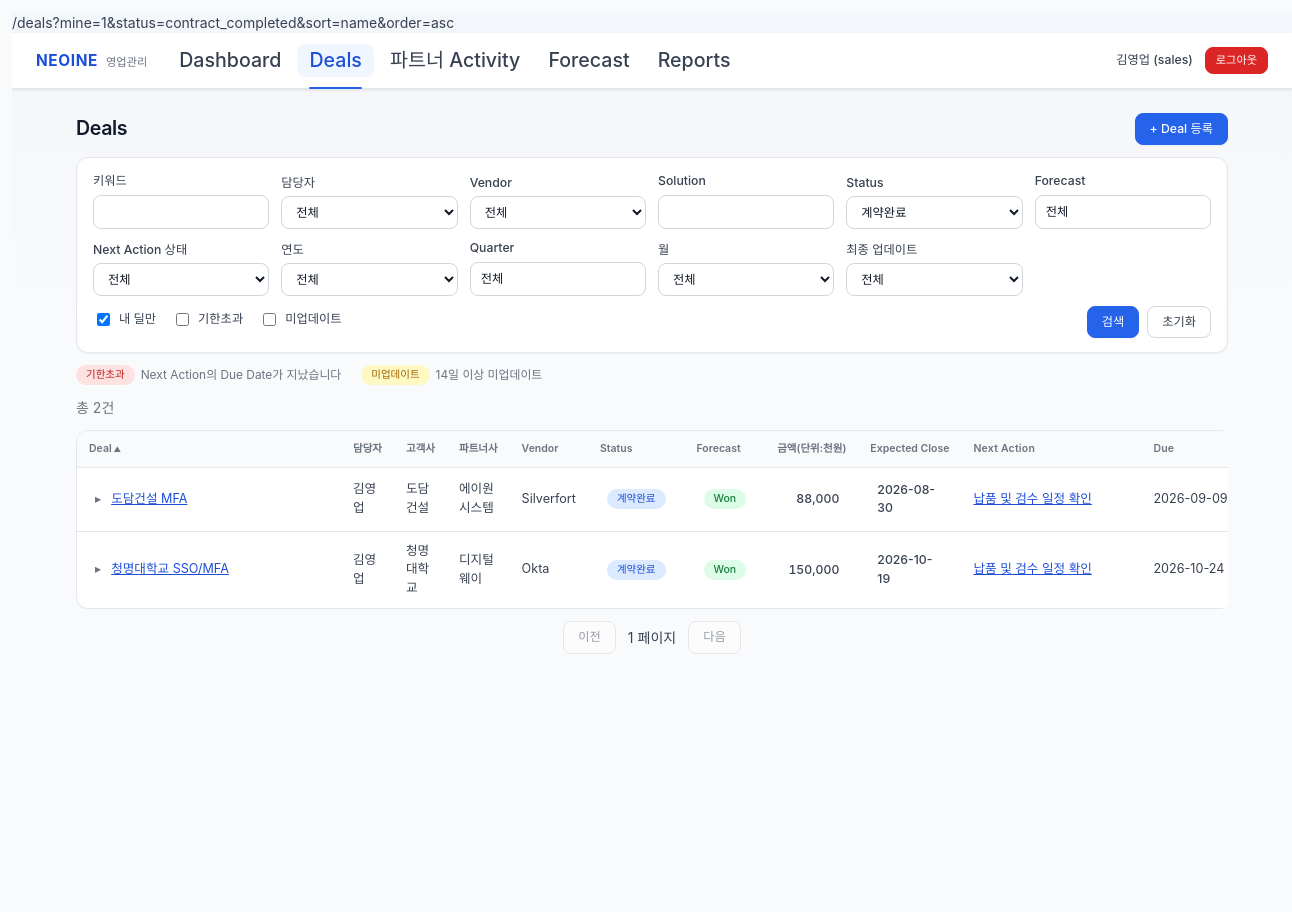
Test: 상세에서 목록으로 (AC-01, AC-02, AC-03, AC-11) › back link on detail returns to the filtered sorted page
Click the link "청명대학교 SSO/MFA" at (170, 570), box [111,560,229,579]
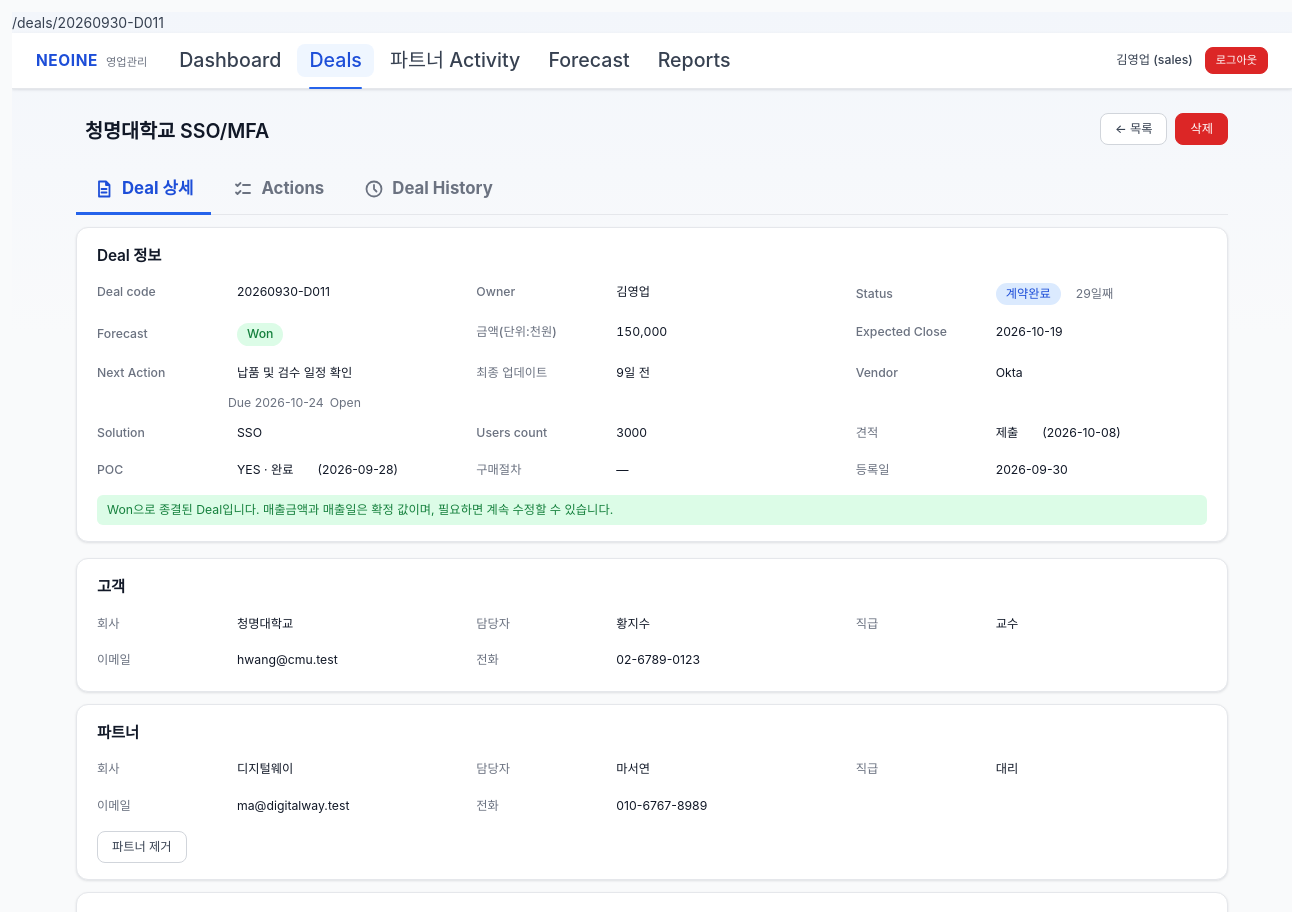
expect the heading "청명대학교 SSO/MFA" is shown: met, box [76,113,278,150]
Click the link "← 목록" at (1134, 129), box [1100,113,1168,145]
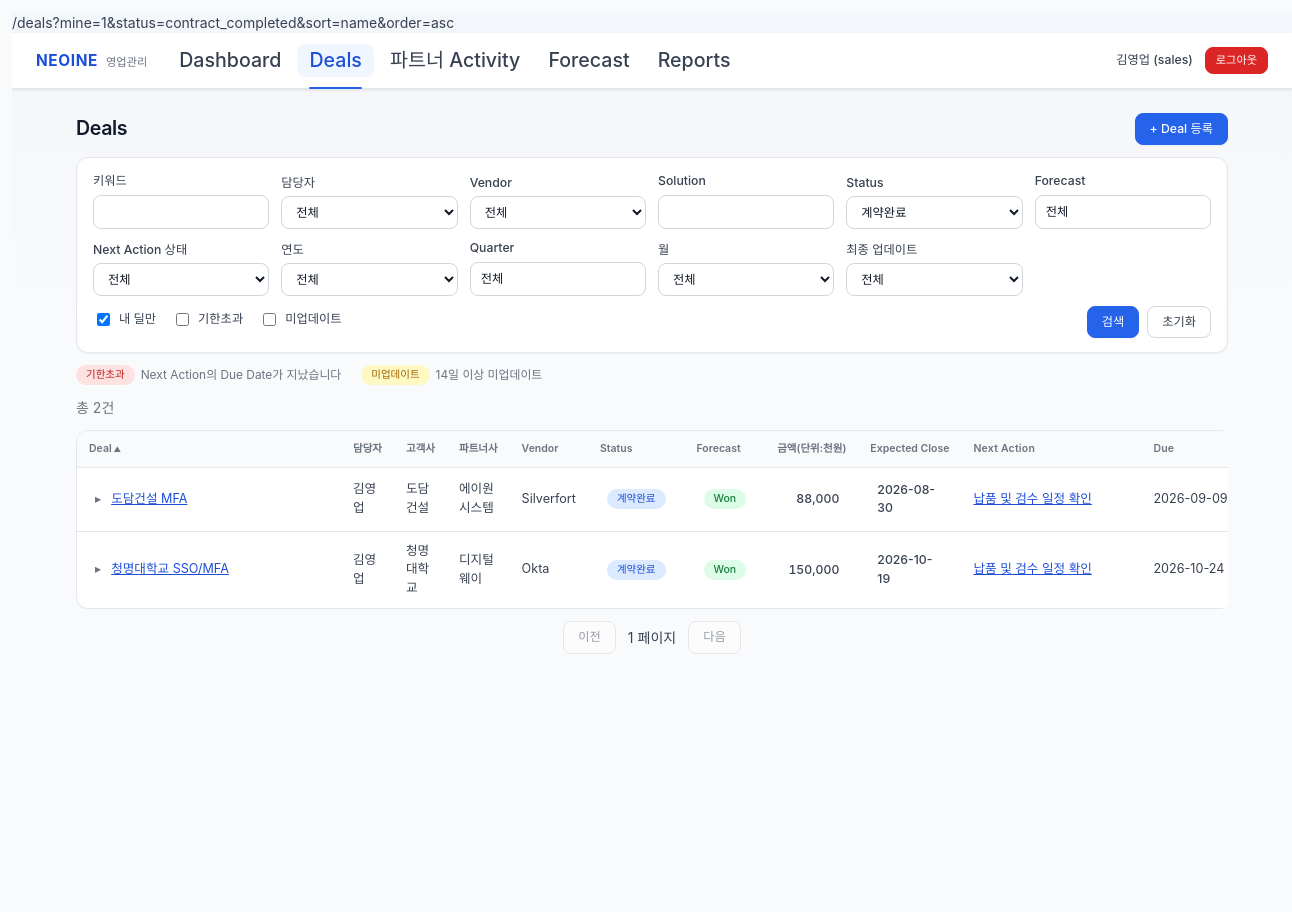
expect the row "청명대학교 SSO/MFA" is shown: met, box [77,532,1228,608]
expect the text with test id "location" reads "/deals?mine=1&status=contract_completed&sort=name&order=asc": met, box [12,14,454,31]
expect the dropdown labelled "Status" shows "계약완료": met, box [846,196,1023,229]
